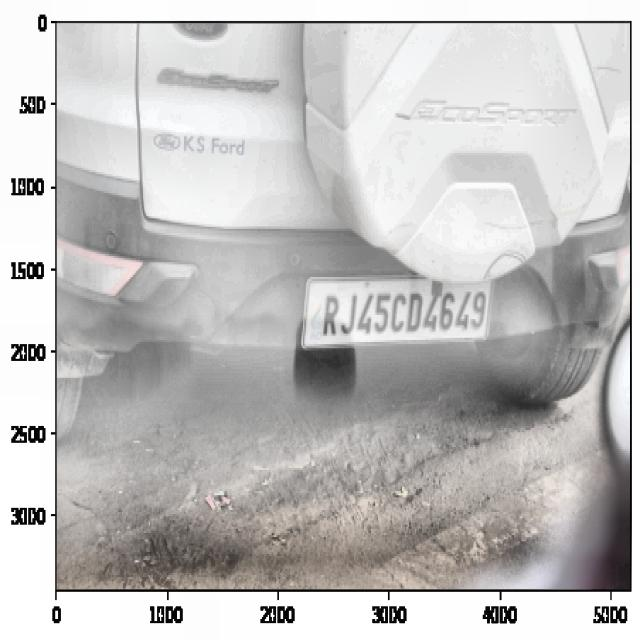license_plate: (318, 282, 488, 349)
